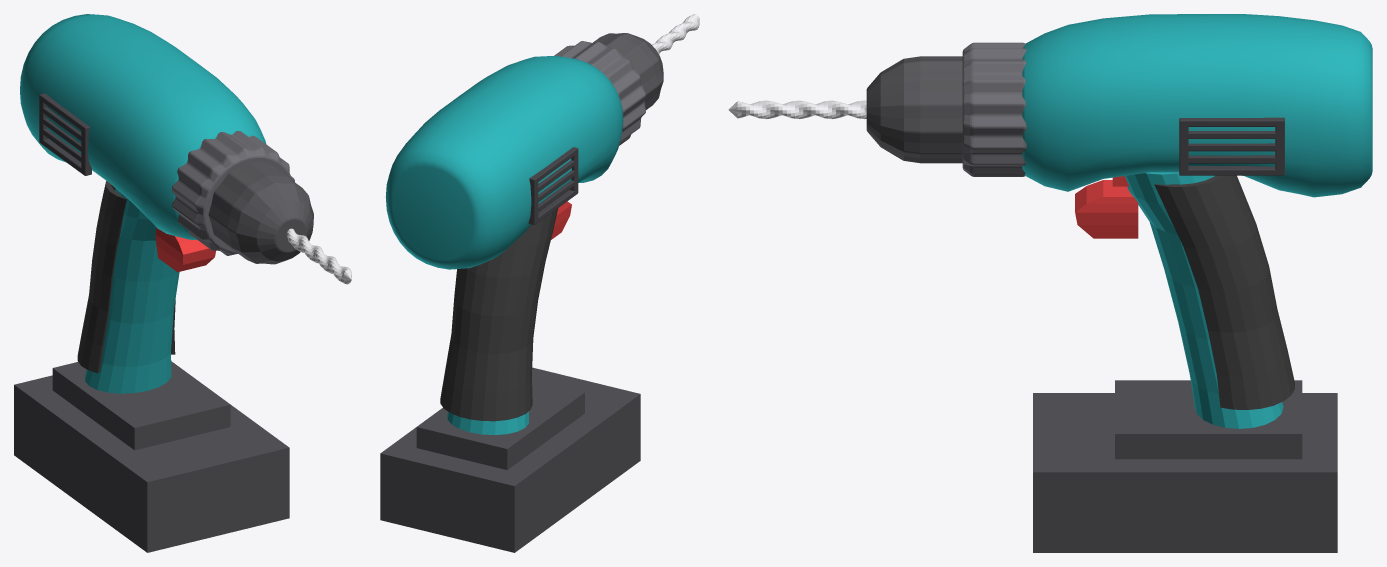
3 views of the same model, side by side, from view 1: azimuth 30°, elevation 25°; view 2: azimuth 150°, elevation 25°; view 3: azimuth 270°, elevation 25° (orthographic). The views are drawn at different scales.
Visible parts, largest first — view 1: BatteryPack, MainHousing, PistolGrip, KeylessChuck, TorqueCollar, RubberOvermold, SideVents_1, Trigger, DrillBit; view 2: MainHousing, BatteryPack, RubberOvermold, TorqueCollar, SideVents_1, KeylessChuck, PistolGrip, DrillBit, Trigger; view 3: MainHousing, BatteryPack, RubberOvermold, KeylessChuck, PistolGrip, TorqueCollar, SideVents_0, Trigger, DrillBit.
Boxes of the visible parts, box(x1,y1,x2,y2) form: BatteryPack: box(14, 361, 289, 552); MainHousing: box(20, 14, 266, 239); PistolGrip: box(85, 188, 179, 393); KeylessChuck: box(208, 162, 313, 264); TorqueCollar: box(172, 131, 294, 255); RubberOvermold: box(77, 181, 175, 373); SideVents_1: box(39, 93, 91, 175); Trigger: box(155, 227, 215, 272); DrillBit: box(286, 228, 351, 284); MainHousing: box(385, 55, 623, 269); BatteryPack: box(380, 367, 640, 552); RubberOvermold: box(440, 208, 558, 421); TorqueCollar: box(554, 41, 645, 145); SideVents_1: box(528, 147, 578, 224); KeylessChuck: box(593, 33, 663, 109); PistolGrip: box(447, 411, 528, 434); DrillBit: box(652, 14, 699, 54); Trigger: box(551, 201, 571, 239); MainHousing: box(1022, 14, 1372, 197); BatteryPack: box(1033, 380, 1337, 552); RubberOvermold: box(1154, 175, 1294, 409); KeylessChuck: box(866, 56, 962, 163); PistolGrip: box(1124, 172, 1283, 428); TorqueCollar: box(962, 42, 1026, 176); SideVents_0: box(1179, 117, 1284, 175); Trigger: box(1075, 176, 1138, 238); DrillBit: box(728, 100, 866, 119).
Size of the model in its own units: 0.08 by 0.23 by 0.275.
